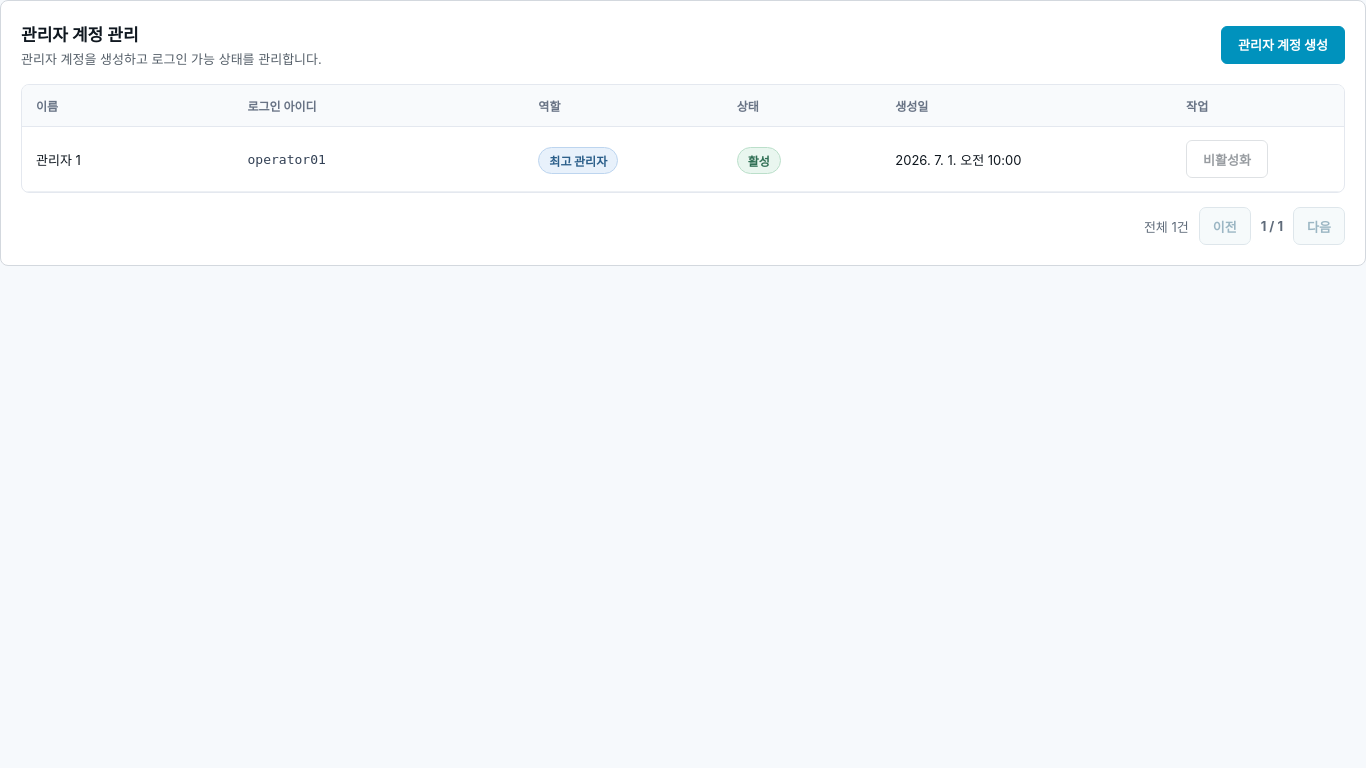
Test: UsersView › 중복 로그인 아이디 오류는 아이디를 다시 입력하면 지운다
The width and height of the screenshot is (1366, 768).
Click the button "관리자 계정 생성" at (1283, 44), box [1221,26,1345,64]
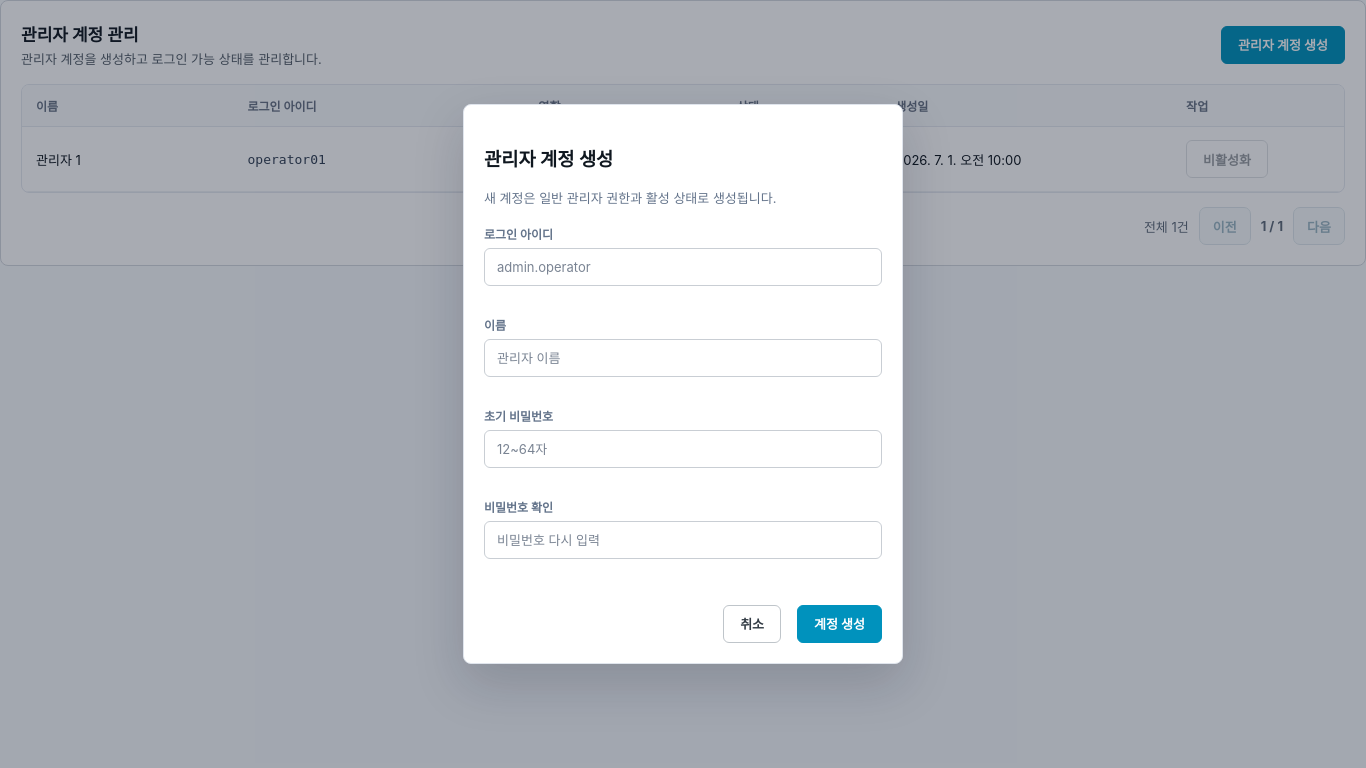
Type "duplicate" into the field labelled "로그인 아이디" at (683, 267), box [484,248,882,286]
Type "중복 관리자" into the field labelled "이름" at (683, 358), box [484,339,882,377]
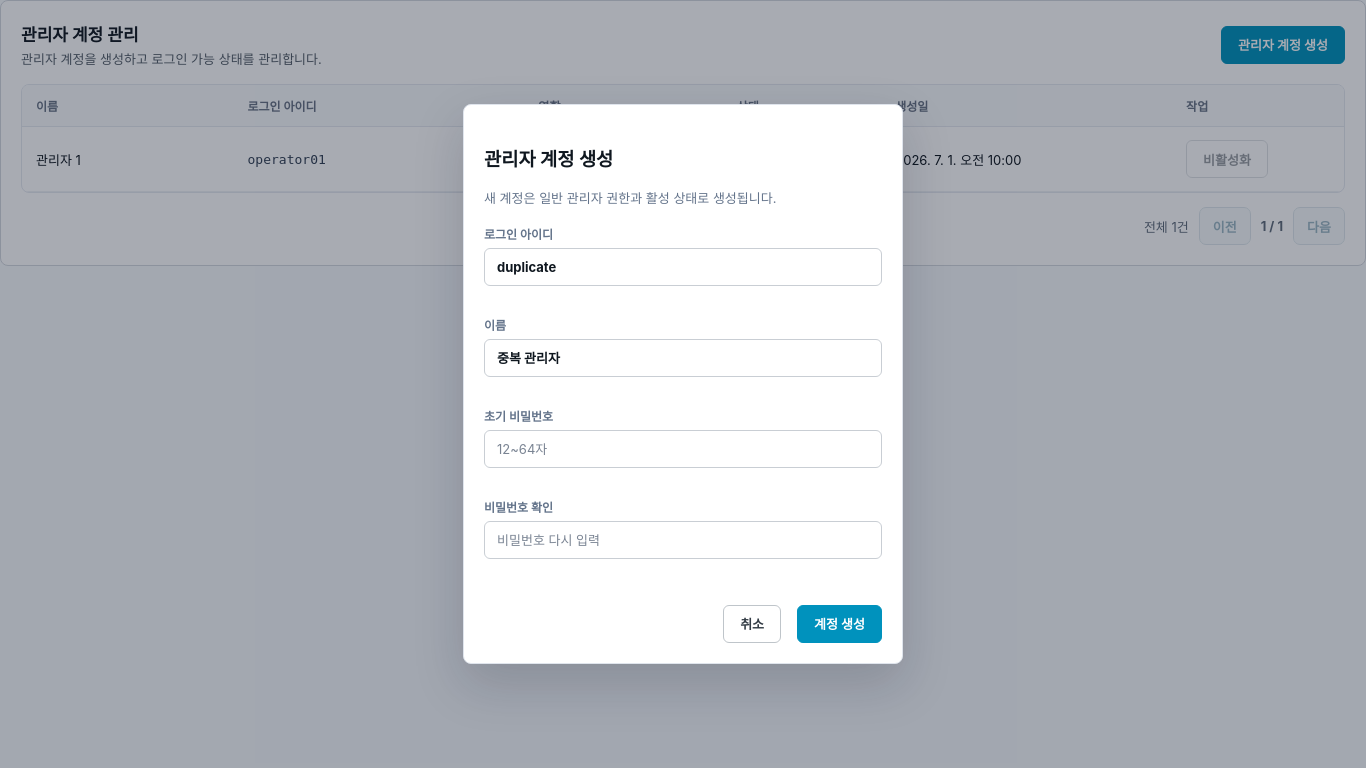
Type "long-password-123" into the password field labelled "초기 비밀번호" at (683, 449), box [484,430,882,468]
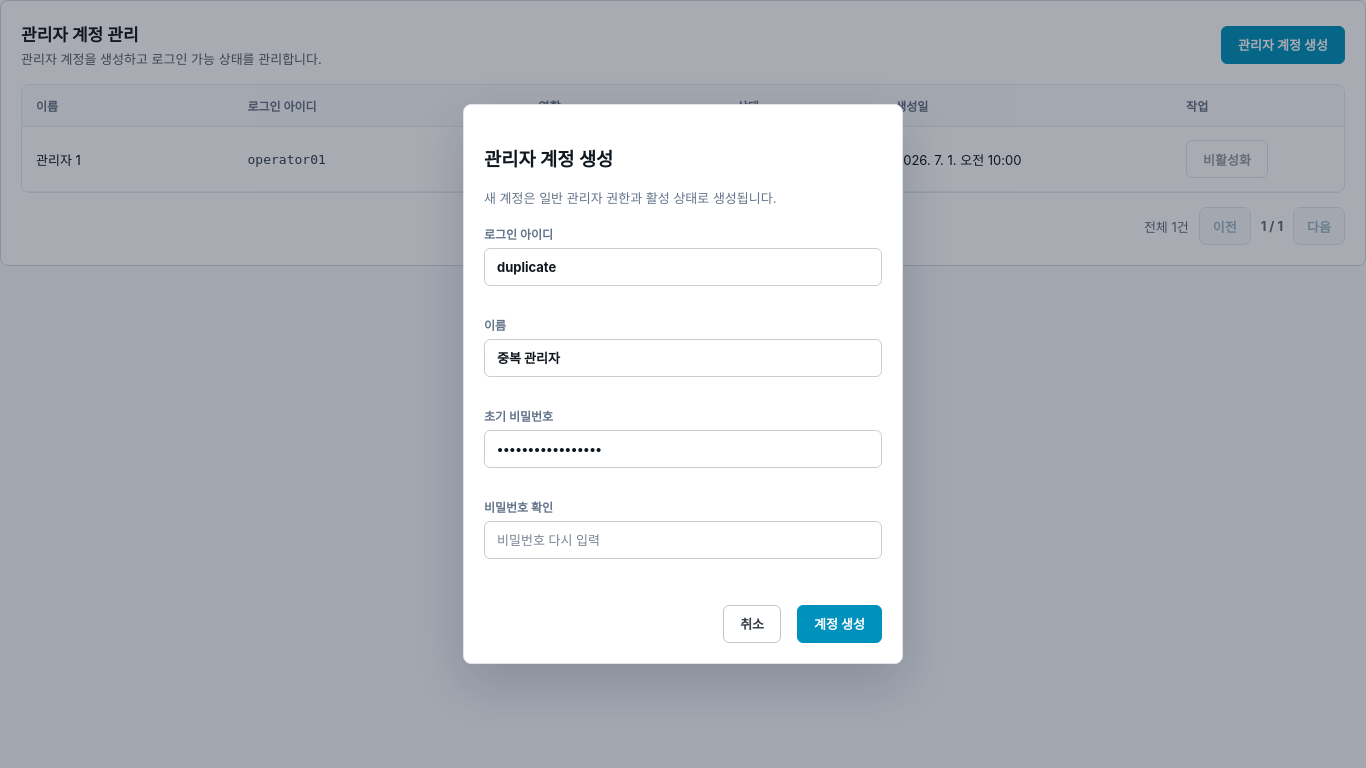
Type "long-password-123" into the password field labelled "비밀번호 확인" at (683, 540), box [484,521,882,559]
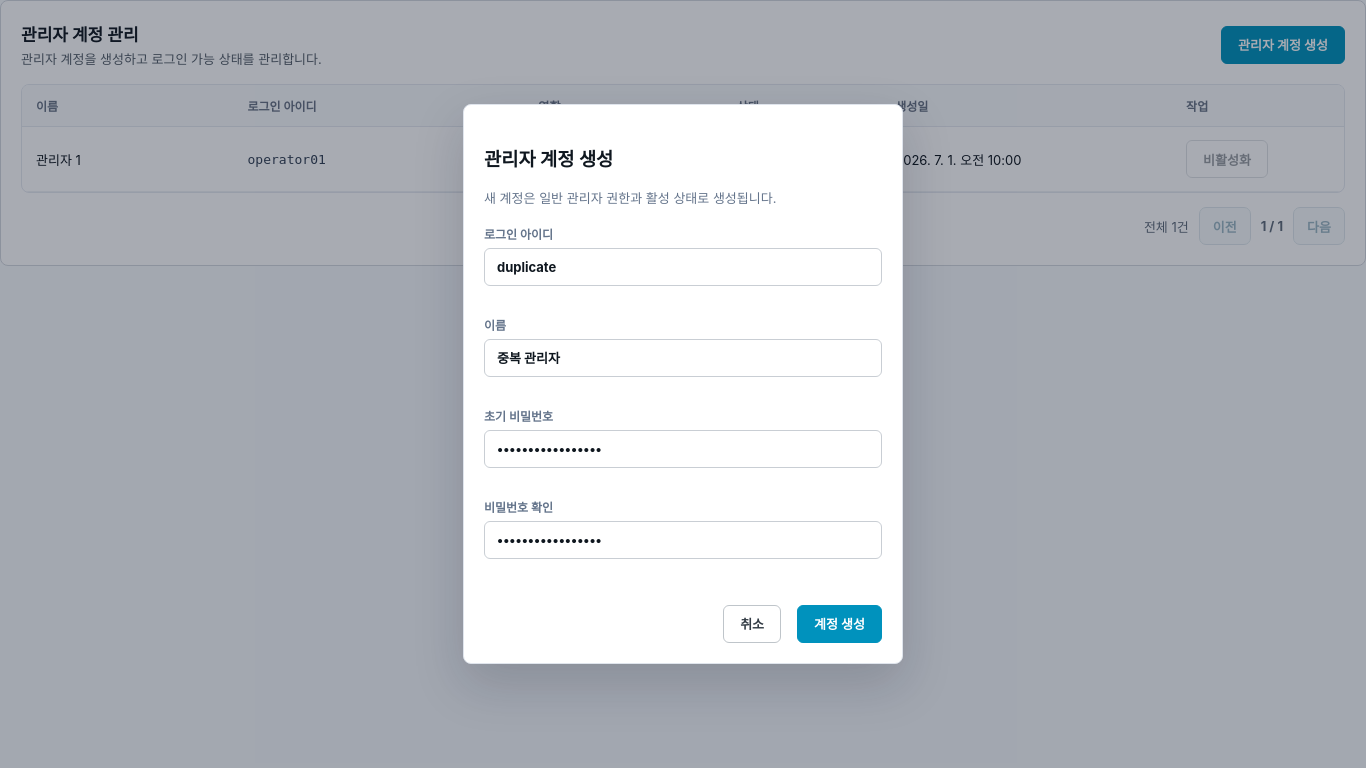
Submit the form with class "admin-create-form", box [484,225,882,643]
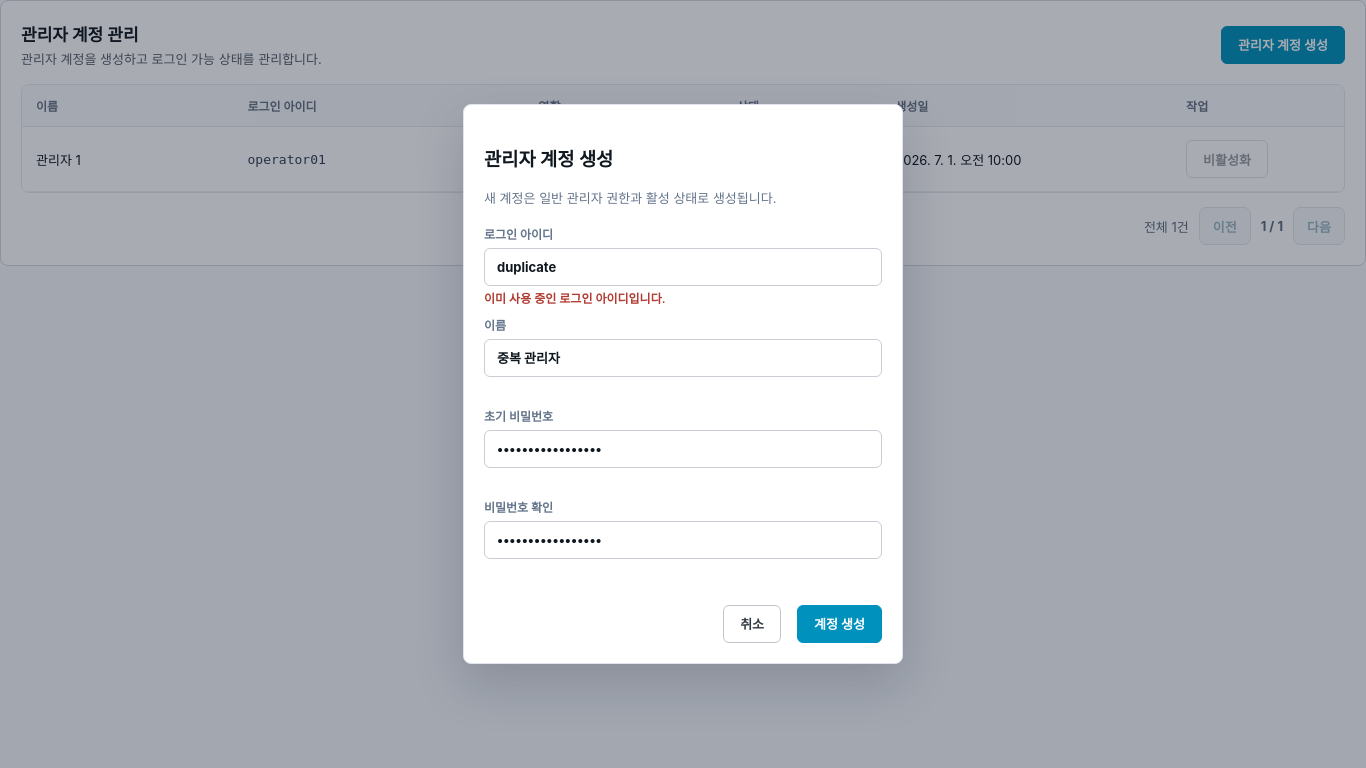
Now the text "이미 사용 중인 로그인 아이디입니다." is shown, box [484,291,666,306]
Replace the text in the field labelled "로그인 아이디 이미 사용 중인 로그인 아이디입니다." with "available" at (683, 267), box [484,248,882,286]
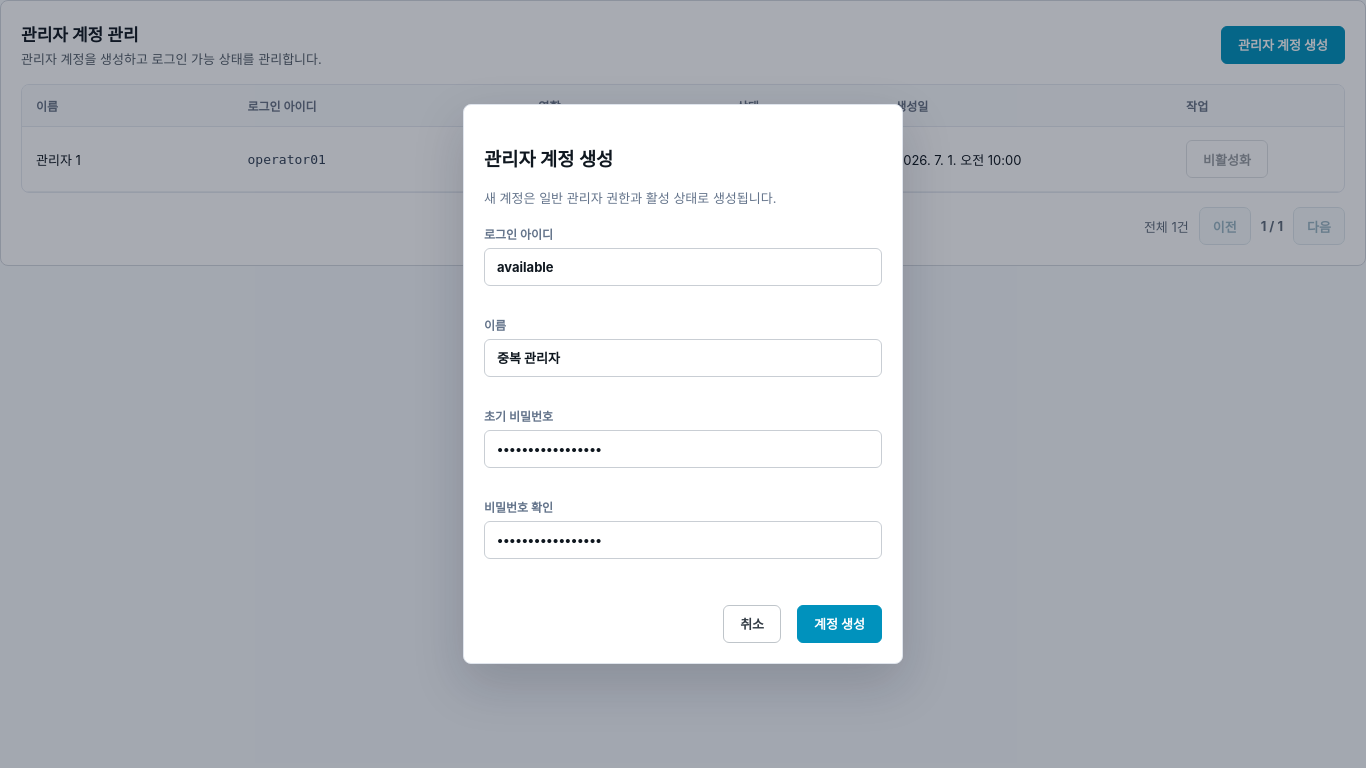
Now the text "이미 사용 중인 로그인 아이디입니다." is gone
